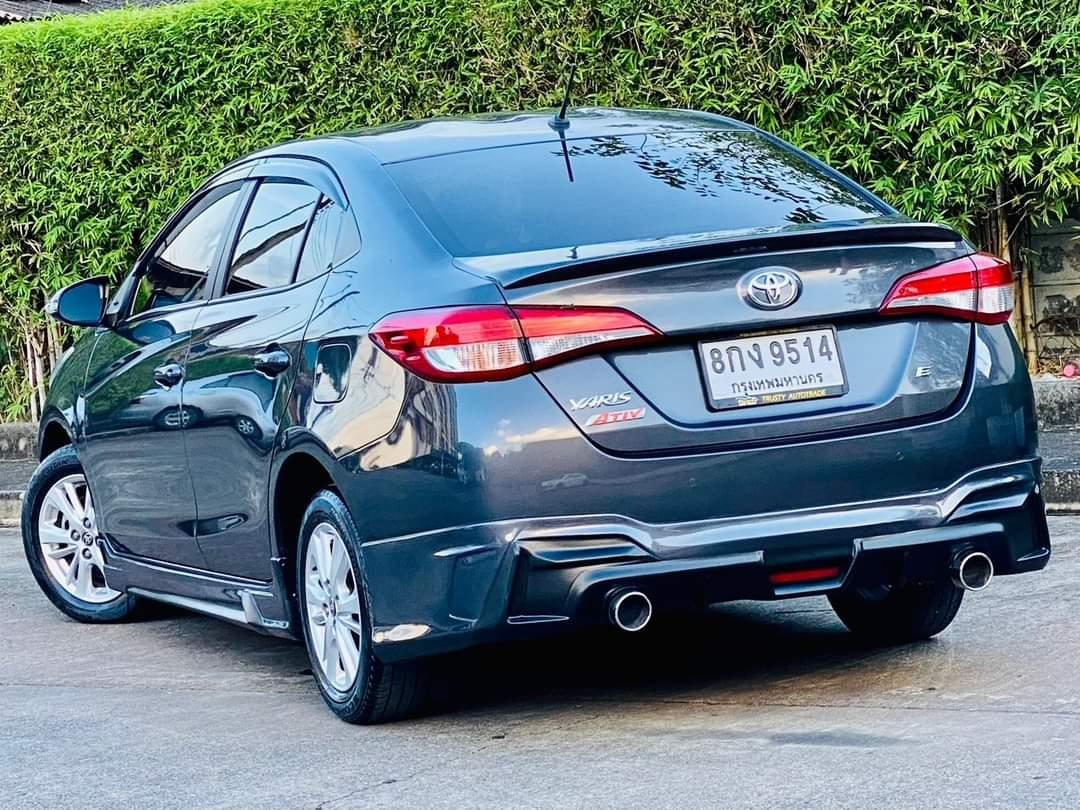license-plate: (694, 319, 852, 419)
